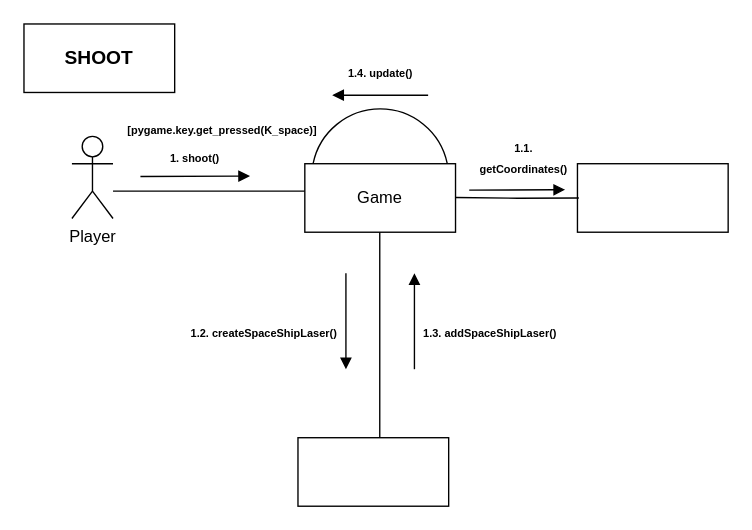
This 752x530 diagram has some shape labels left out. The box of each missing label's shape, as (x1, y1, x2, y2) in pixels:
SpaceShip: (576, 162, 728, 232)
SpaceShipLaser: (297, 436, 449, 506)
